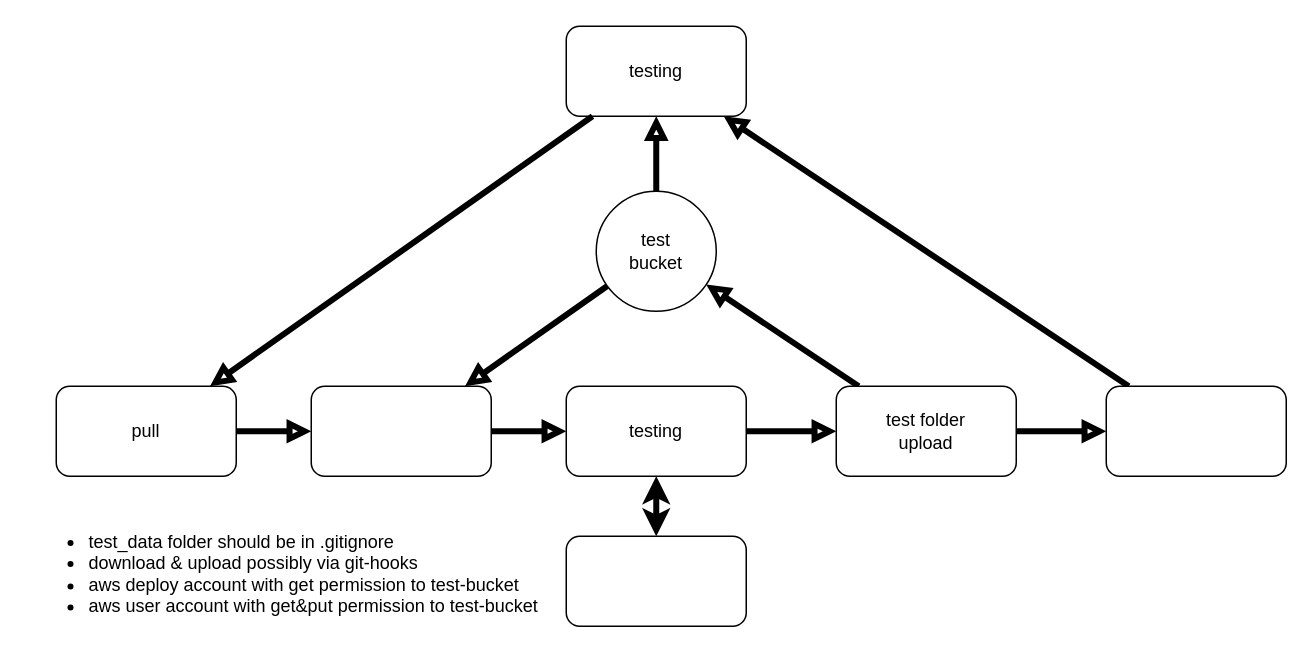
The diagram is 1313 pixels wide and 662 high, and some of its shapes have lost their labels. Each missing label, with the box of its shape:
code change: (565, 535, 746, 626)
push: (1105, 385, 1286, 476)
test folder download: (310, 385, 491, 476)
